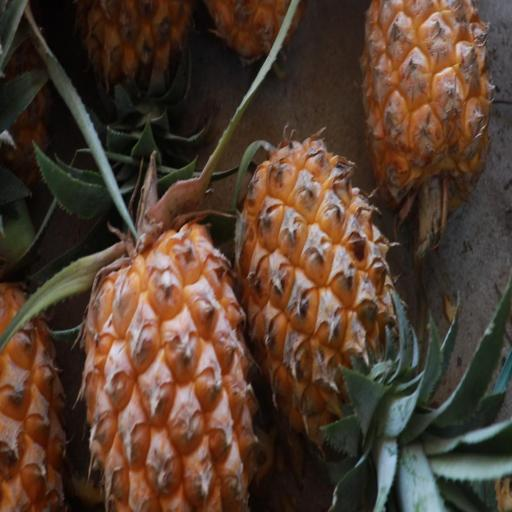Pineapple - v8 v1: (79, 147, 262, 512), (232, 130, 403, 462), (356, 0, 496, 239), (0, 198, 75, 511)
